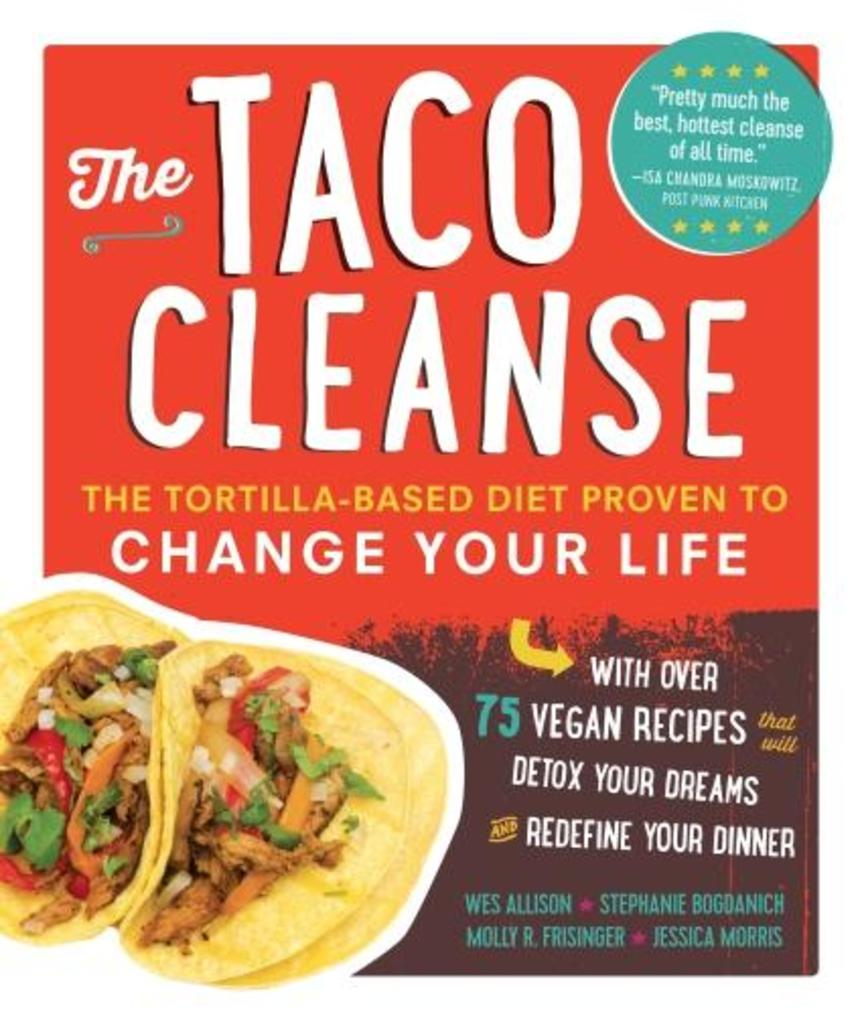taco: (45, 625, 446, 1000), (0, 590, 199, 955)
